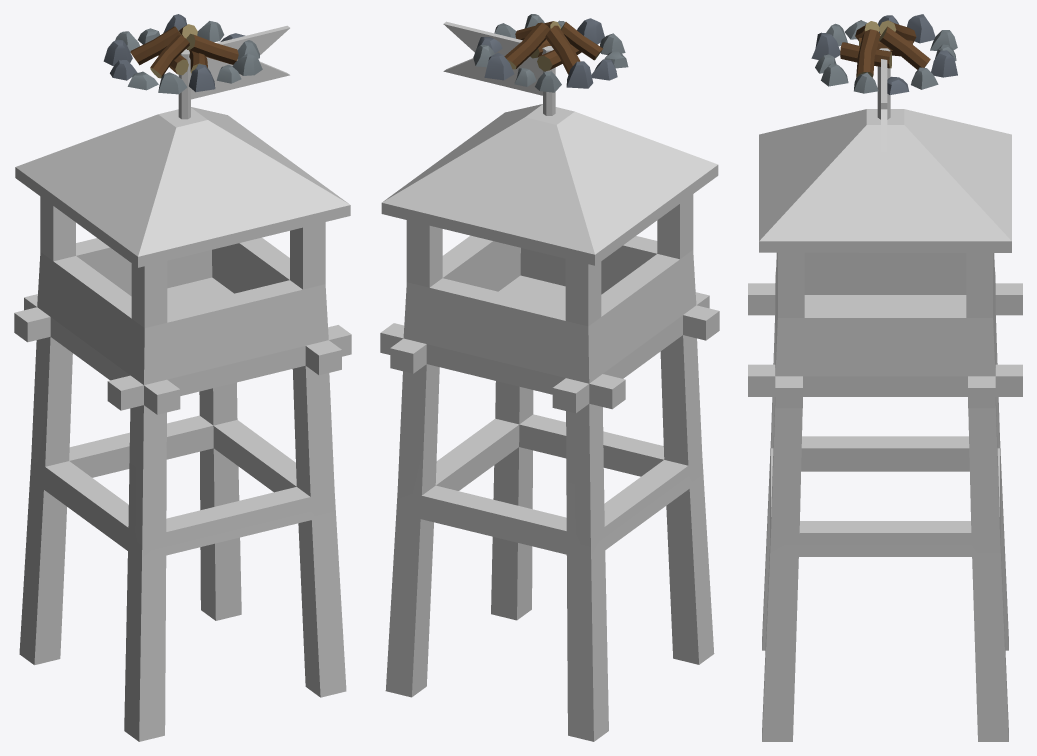
File: london_bld_watchtower.glb
3 views of the same model, side by side, from view 1: azimuth 30°, elevation 25°; view 2: azimuth 150°, elevation 25°; view 3: azimuth 270°, elevation 25° (orthographic). The views are drawn at different scales.
Visible parts, largest first — view 1: Watchtower_With_Roof_Cube.022, Bonfire; view 2: Watchtower_With_Roof_Cube.022, Bonfire; view 3: Watchtower_With_Roof_Cube.022, Bonfire.
Part boxes in pixels (x1,y1,x2,y2): Watchtower_With_Roof_Cube.022: [14, 25, 351, 741]; Bonfire: [103, 14, 262, 94]; Watchtower_With_Roof_Cube.022: [380, 21, 719, 741]; Bonfire: [473, 14, 628, 92]; Watchtower_With_Roof_Cube.022: [748, 48, 1022, 741]; Bonfire: [811, 14, 957, 94].
Size of the model in its own units: 1.49 by 4 by 1.49.
